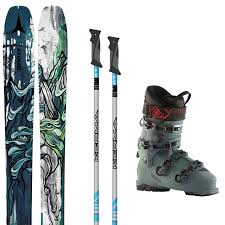skis: (2, 4, 122, 225)
